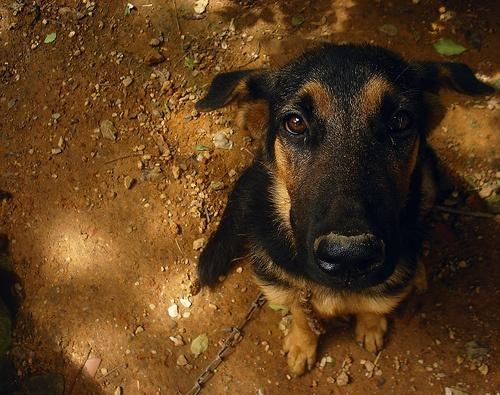dog: (198, 42, 491, 372)
